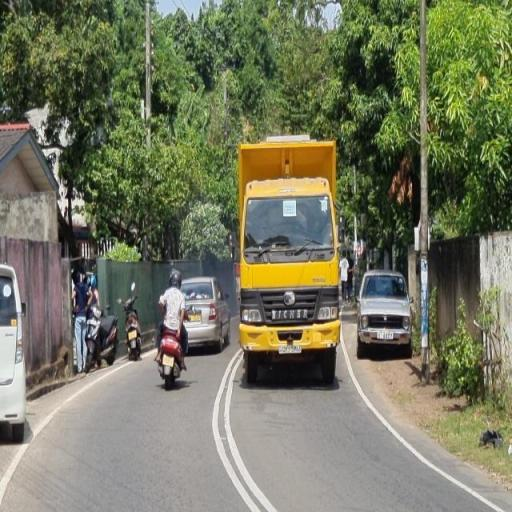double_white_line: (339, 337, 504, 512), (213, 348, 277, 511)
